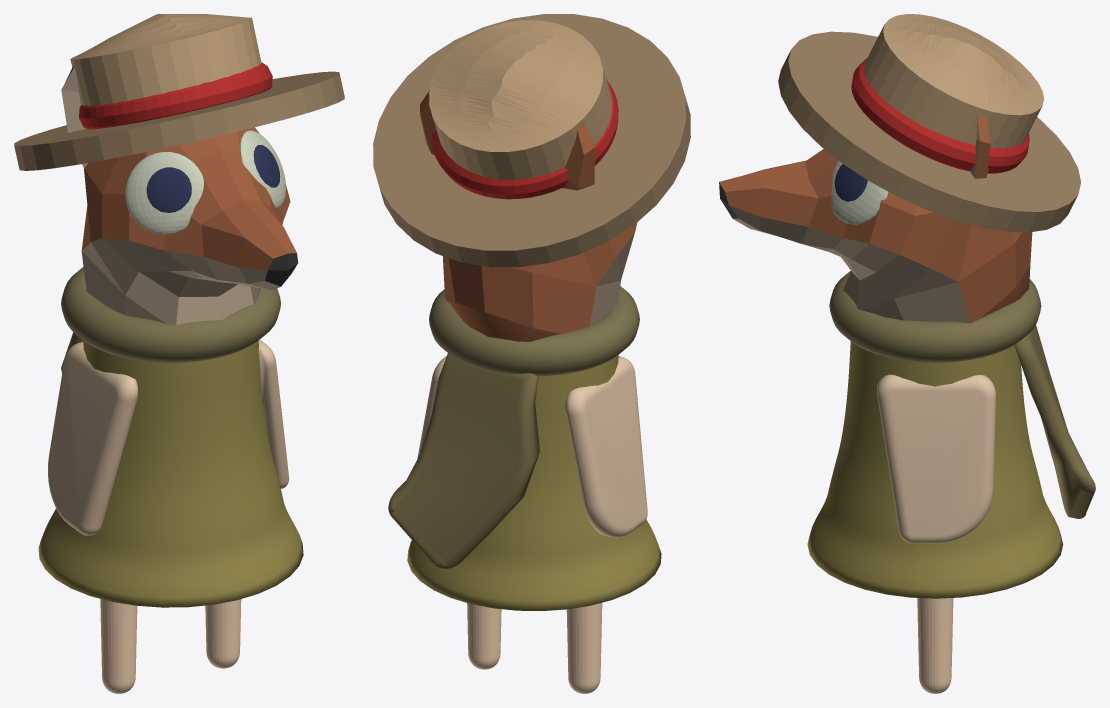
File: fox2 remaster.fbx
The picture shows the model from 3 angles, left to right: view 1: azimuth 30°, elevation 25°; view 2: azimuth 150°, elevation 25°; view 3: azimuth 270°, elevation 25°; orthographic projection. The views are drawn at different scales.
Visible parts, largest first — view 1: Cylinder.164, Fox_Mesh.003, Cube.039, Cylinder.012, Cylinder.013, Torus.014, Cylinder.165, Torus.006, Sphere.024, Sphere.025; view 2: Cylinder.013, Cylinder.164, Cylinder.012, Cube.040, Fox_Mesh.003, Cube.039, Torus.014, Cylinder.165, Torus.006; view 3: Cylinder.164, Fox_Mesh.003, Cylinder.013, Cube.039, Cylinder.012, Torus.014, Cube.040, Torus.006, Cylinder.165, Sphere.024, Sphere.025.
Boxes of the visible parts, <box> form: Cylinder.164: <box>38,340,303,607</box>; Fox_Mesh.003: <box>61,66,298,325</box>; Cube.039: <box>48,339,289,535</box>; Cylinder.012: <box>70,14,261,127</box>; Cylinder.013: <box>14,71,344,170</box>; Torus.014: <box>61,267,280,362</box>; Cylinder.165: <box>100,599,241,693</box>; Torus.006: <box>79,62,272,129</box>; Sphere.024: <box>125,130,285,234</box>; Sphere.025: <box>146,145,280,212</box>; Cylinder.013: <box>373,14,690,267</box>; Cylinder.164: <box>407,355,661,610</box>; Cylinder.012: <box>429,20,611,179</box>; Cube.040: <box>388,353,539,568</box>; Fox_Mesh.003: <box>420,90,637,341</box>; Cube.039: <box>417,356,647,537</box>; Torus.014: <box>429,286,639,376</box>; Cylinder.165: <box>467,603,602,693</box>; Torus.006: <box>432,80,618,199</box>; Cylinder.164: <box>807,341,1063,598</box>; Fox_Mesh.003: <box>719,114,1032,323</box>; Cylinder.013: <box>778,31,1080,232</box>; Cube.039: <box>877,374,995,543</box>; Cylinder.012: <box>863,14,1043,148</box>; Torus.014: <box>829,271,1041,362</box>; Cube.040: <box>1014,325,1095,518</box>; Torus.006: <box>851,58,1029,173</box>; Cylinder.165: <box>917,598,953,693</box>; Sphere.024: <box>831,160,888,224</box>; Sphere.025: <box>834,164,867,201</box>.
Bounding box in the file's own units: 96.49 × 211 × 113.
